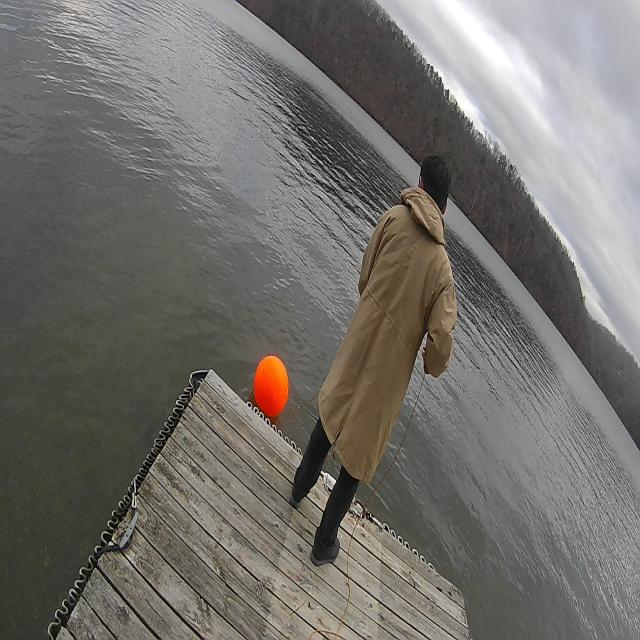Buoy: (252, 350, 292, 424)
